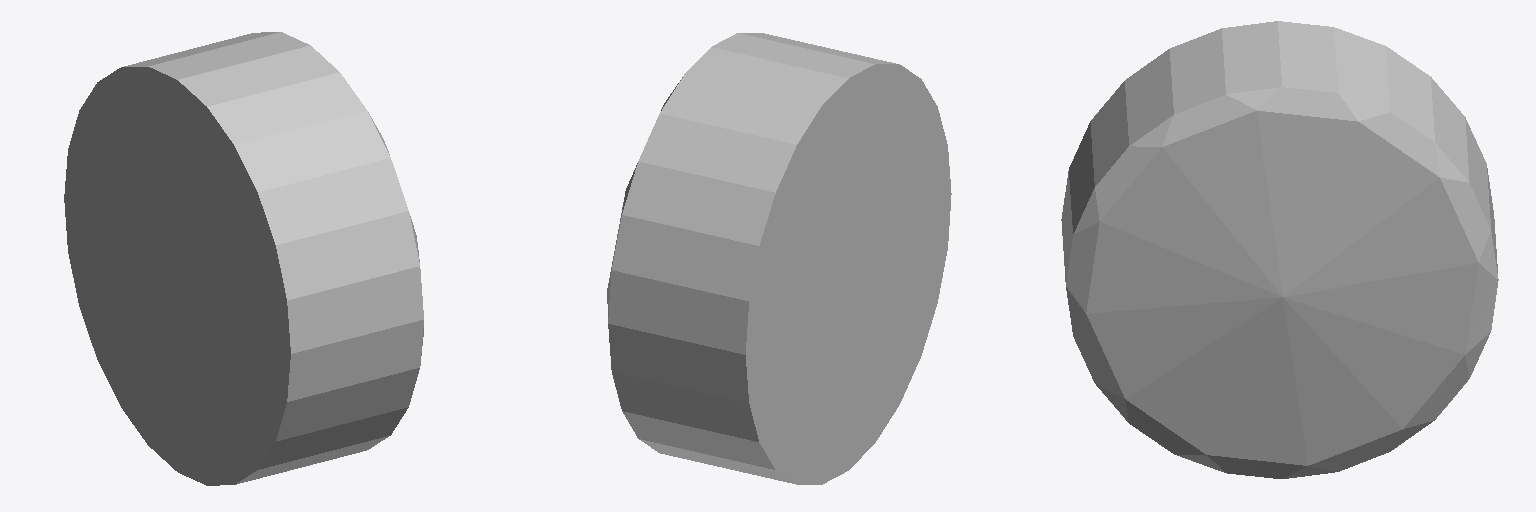
Rendered from wheel_front.obj.
3 views of the same model, side by side, from view 1: azimuth 30°, elevation 25°; view 2: azimuth 150°, elevation 25°; view 3: azimuth 270°, elevation 25° (orthographic).
Parts seen in each view (by area): view 1: Ducato_whe; view 2: Ducato_whe; view 3: Ducato_whe.
Part boxes in pixels (x1,y1,x2,y2): Ducato_whe: (64,32,423,485); Ducato_whe: (607,33,951,484); Ducato_whe: (1061,21,1498,478).
Bounding box in the file's own units: 0.2059 × 0.4554 × 0.4598.